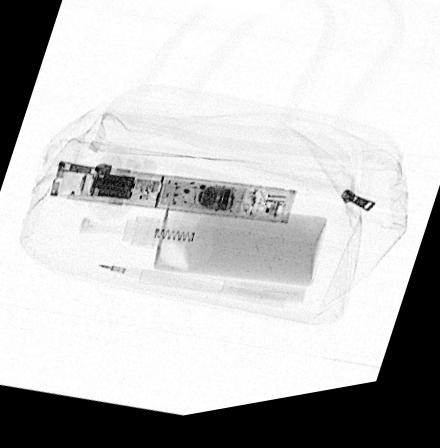Baton: (47, 161, 297, 233)
